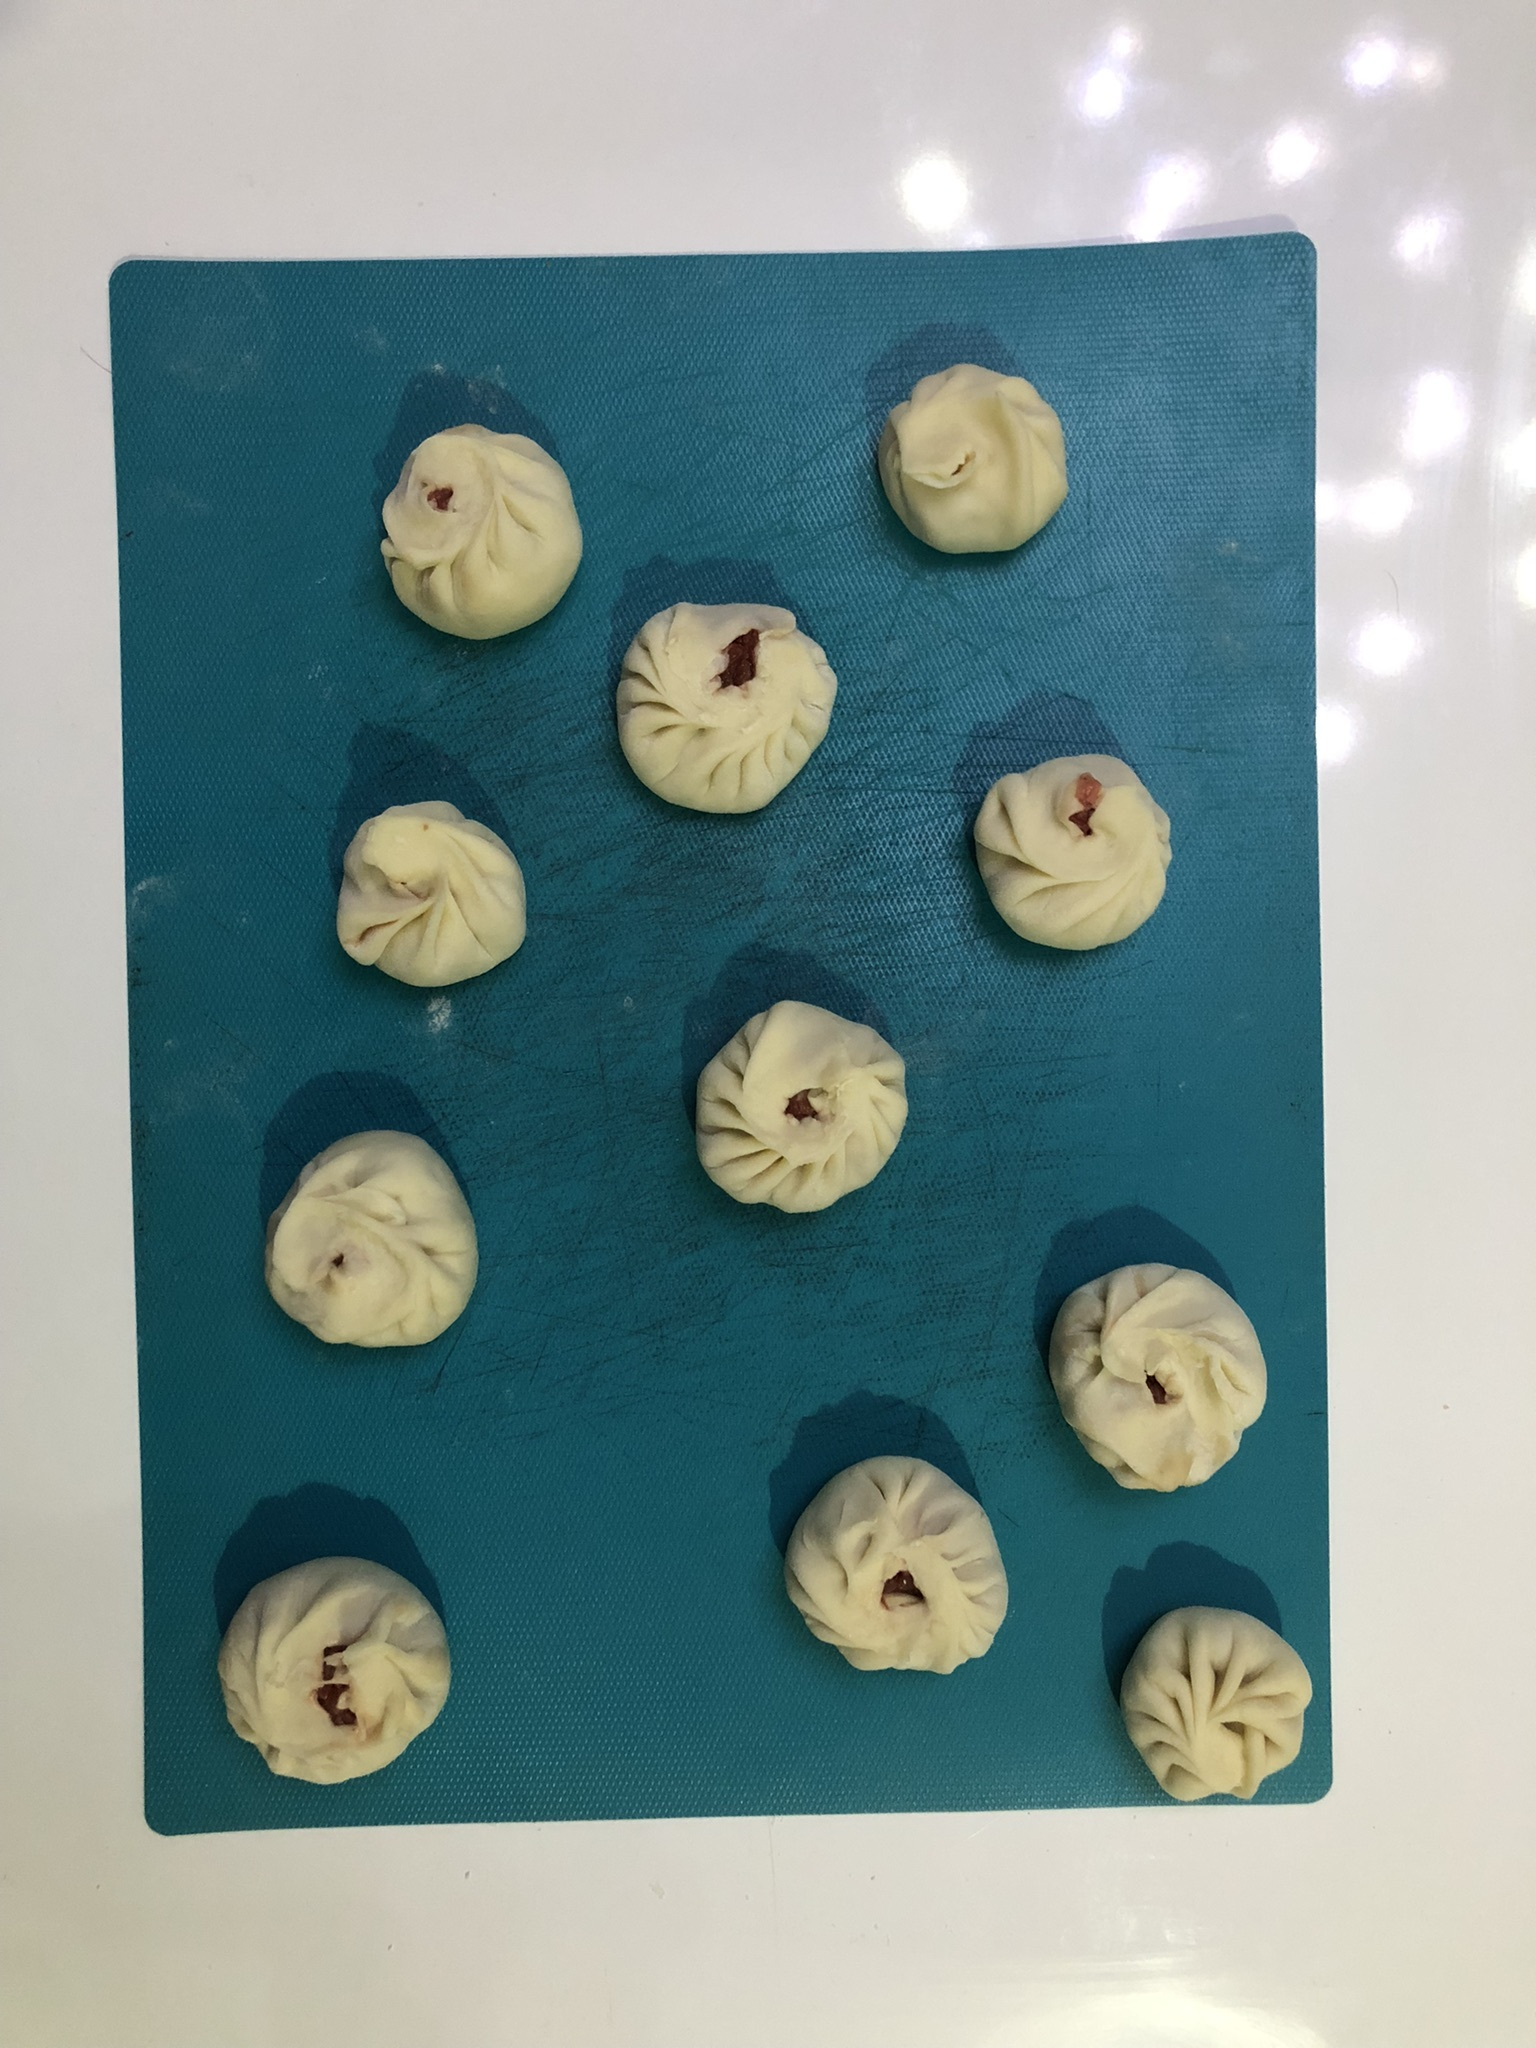buuz: (207, 1538, 466, 1800), (1033, 1255, 1284, 1506), (603, 587, 852, 835), (774, 1447, 1023, 1692), (248, 1116, 487, 1364), (678, 985, 920, 1229), (365, 411, 594, 655), (1097, 1593, 1329, 1817), (965, 735, 1184, 964), (332, 784, 549, 1003), (868, 358, 1075, 568)
